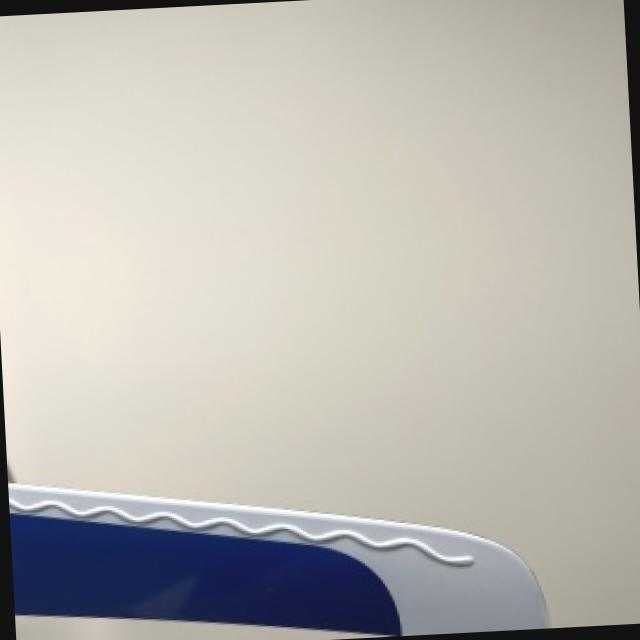healthy: (10, 484, 550, 634)
